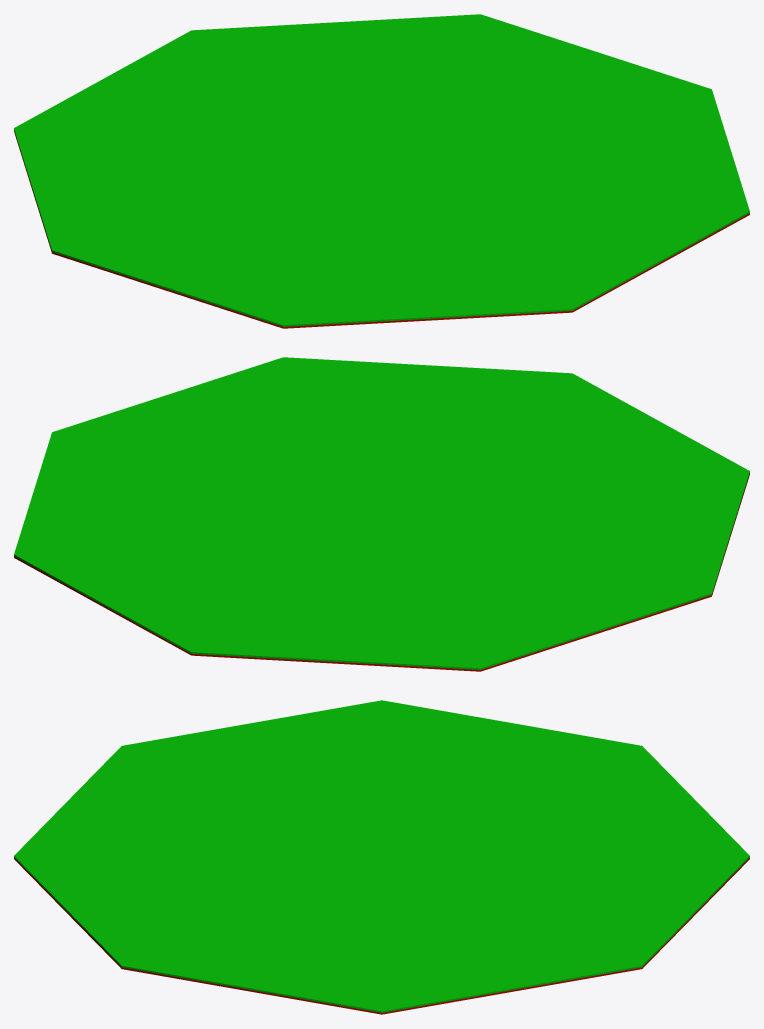
Rendered from fileName (2).glb.
3 renders of one model, top to bottom at view 1: azimuth 30°, elevation 25°; view 2: azimuth 150°, elevation 25°; view 3: azimuth 270°, elevation 25°, orthographic. The views are drawn at different scales.
Visible parts, largest first — view 1: polyt_merged; view 2: polyt_merged; view 3: polyt_merged.
Part boxes in pixels (x1,y1,x2,y2): polyt_merged: [14, 14, 749, 328]; polyt_merged: [14, 357, 749, 671]; polyt_merged: [14, 700, 749, 1014].
Size of the model in its own units: 20 by 0.1 by 20.
